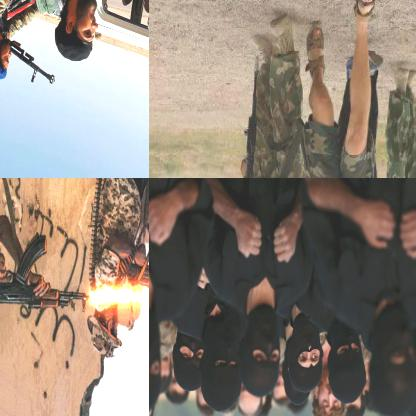rifle: (0, 234, 96, 315), (0, 0, 60, 89), (231, 54, 268, 177), (122, 218, 148, 309)
